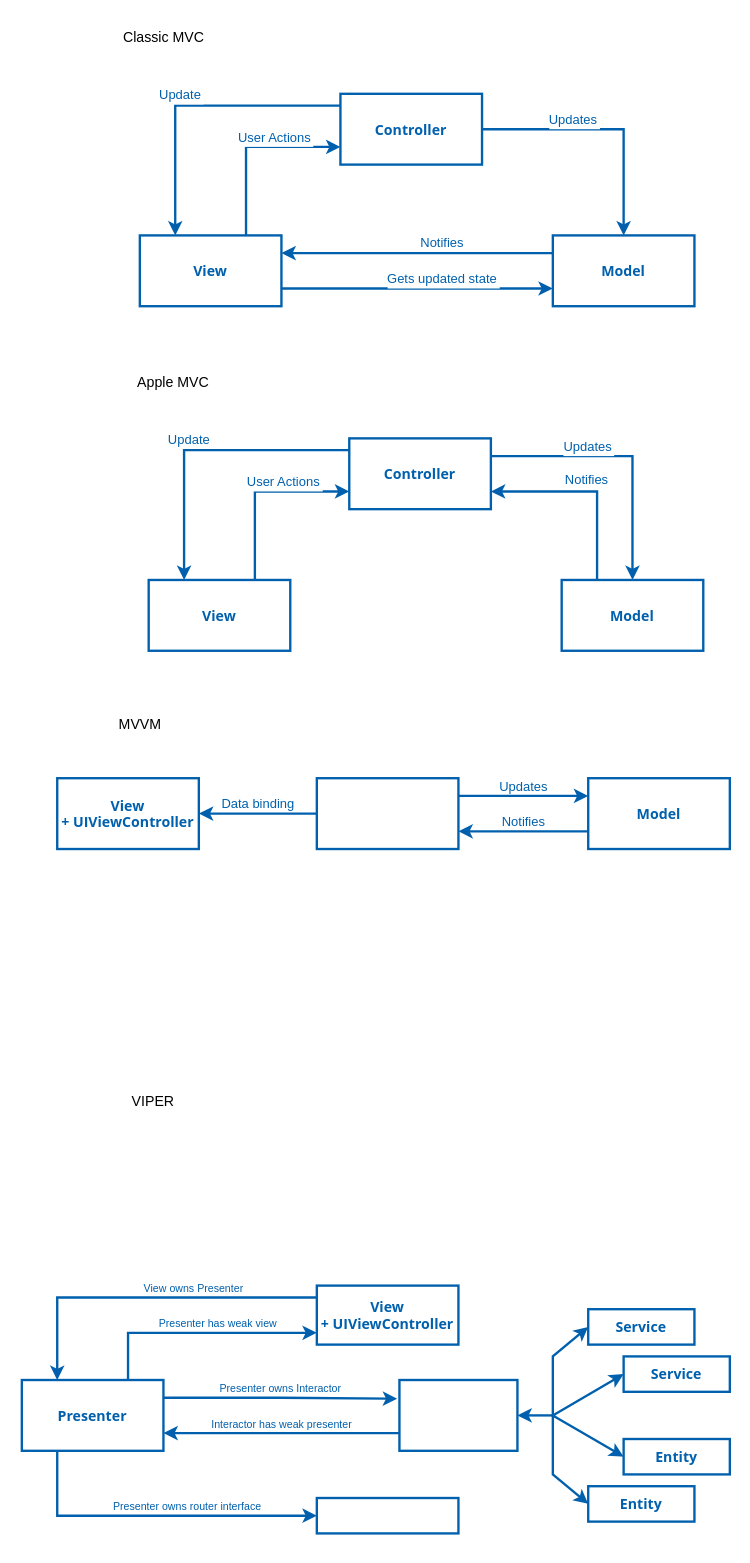
The diagram is 750 pixels wide and 1563 high, and some of its shapes have lost their labels. Each missing label, with the centre of its shape:
Interactor: point (458, 1414)
Router: point (387, 1515)
ViewModel: point (387, 813)
